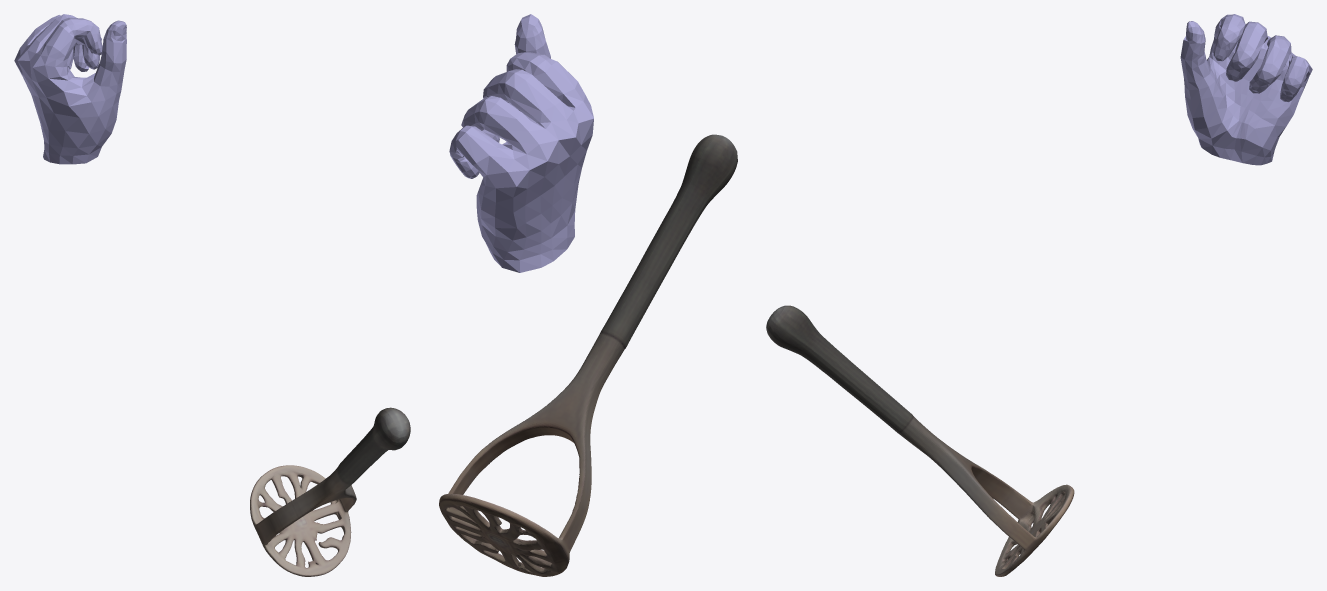
Rendered from frame_0092_source_000092_hand_object.glb.
3 renders of one model, left to right at view 1: azimuth 30°, elevation 25°; view 2: azimuth 150°, elevation 25°; view 3: azimuth 270°, elevation 25°, orthographic. The views are drawn at different scales.
Parts seen in each view (by area): view 1: world; view 2: world; view 3: world.
Boxes of the visible parts, x1,y1,x2,y2 form: world: (14,14,410,576); world: (439,14,737,576); world: (766,14,1312,576).
Bounding box in the file's own units: 0.1756 × 0.4007 × 0.3954.
